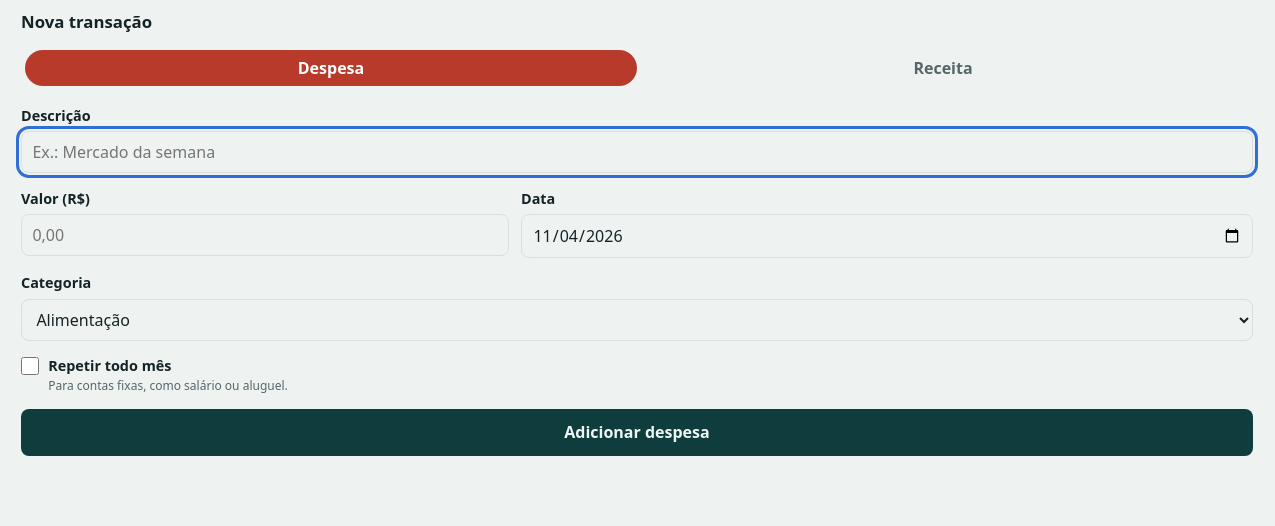
Test: TransactionForm › mostra os erros e não envia quando os dados são inválidos
Click the button "Adicionar despesa": (637, 432) [21,409,1253,456]
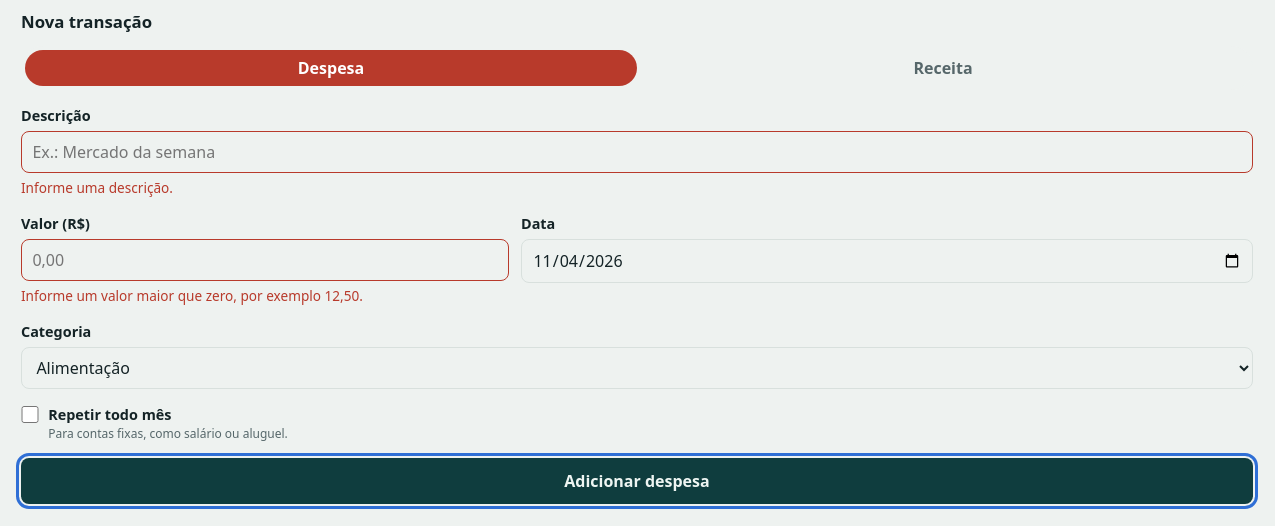
Result: the text "Informe uma descrição." is shown at [21,178,173,197]
